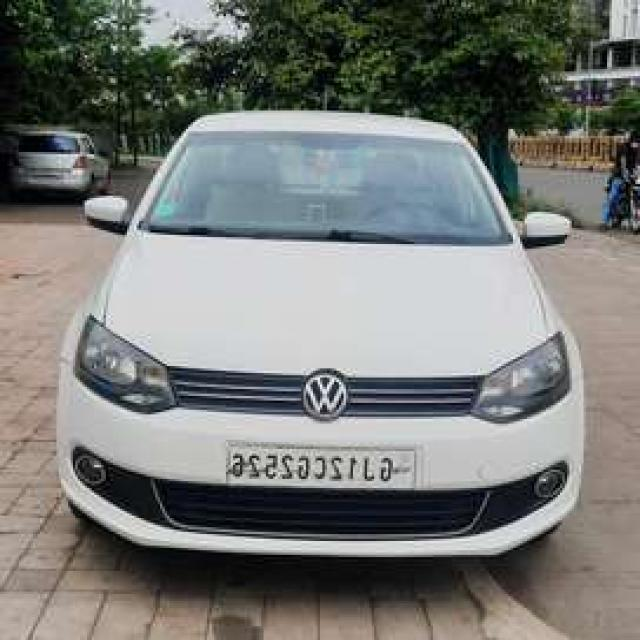license_plate: (222, 439, 423, 497)
